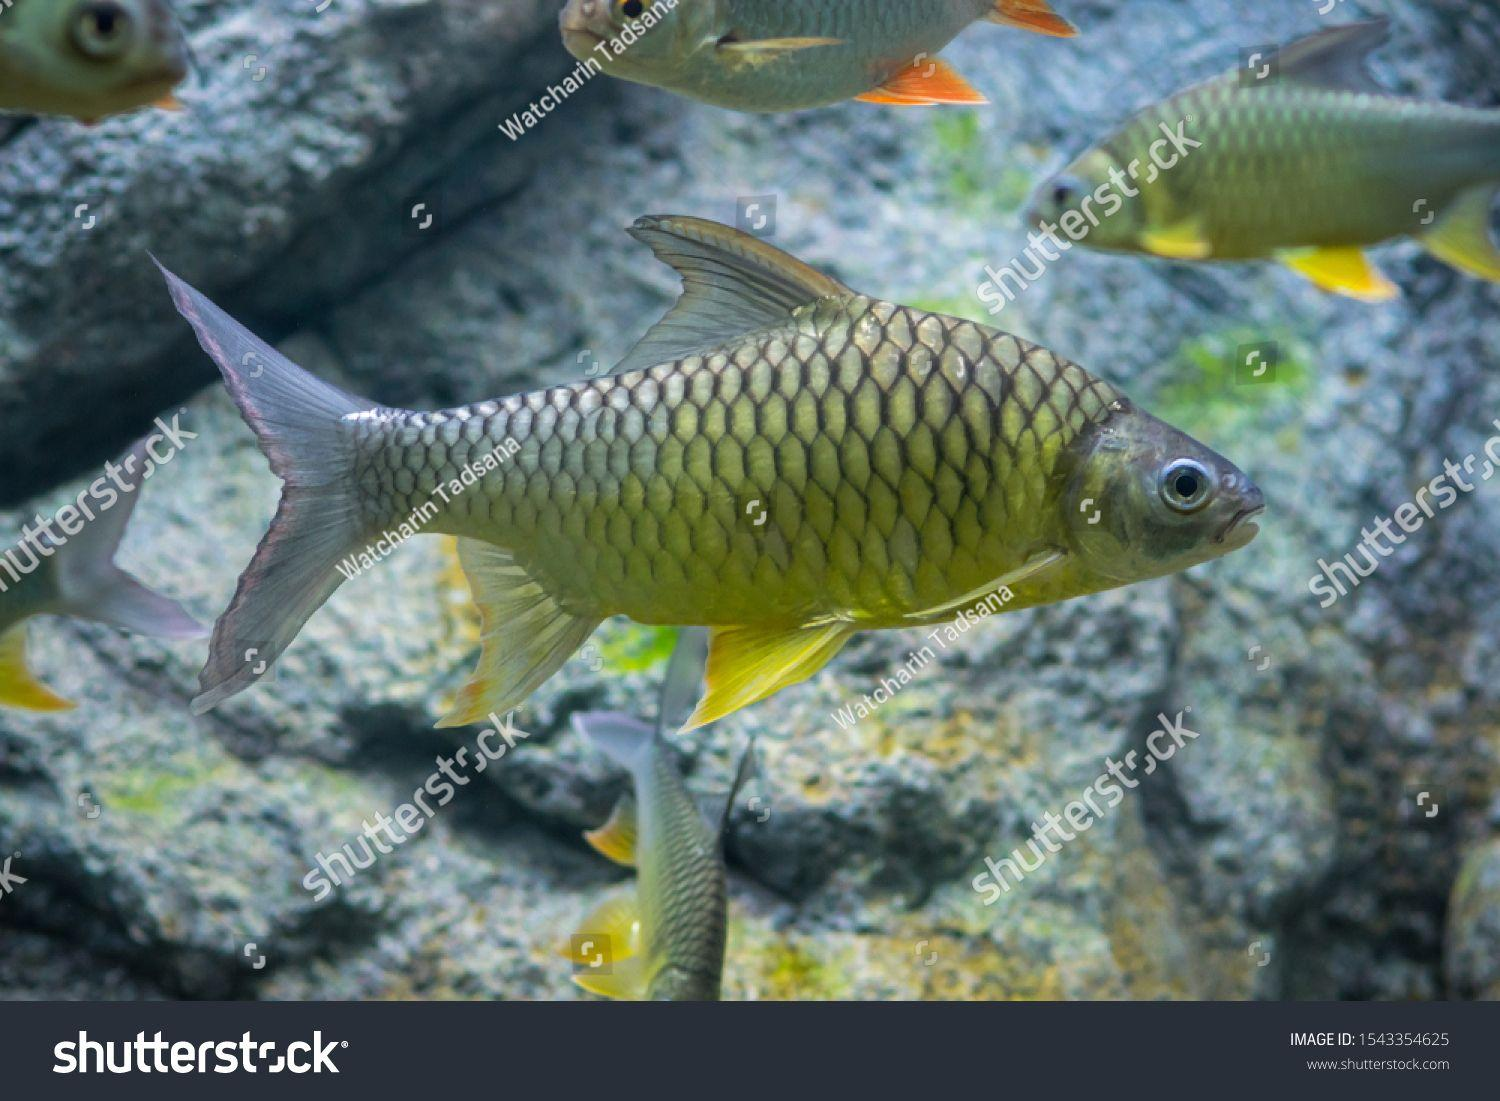Silver Barb: (154, 223, 1258, 707), (1035, 0, 1500, 250)
